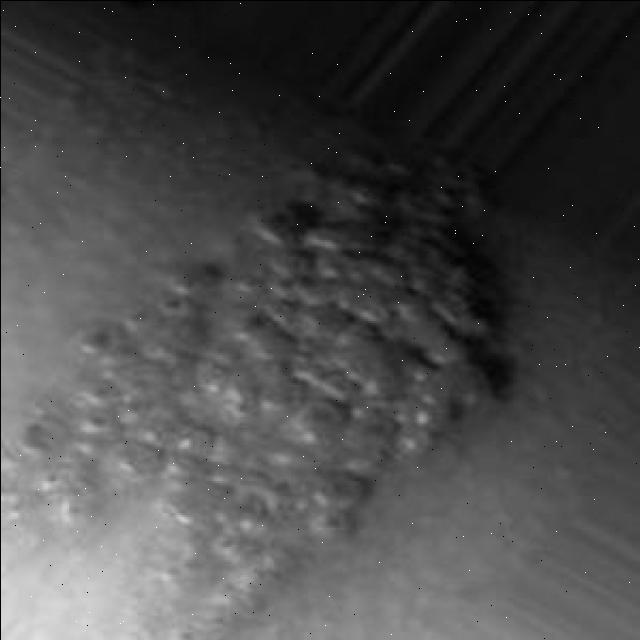Shingles: (4, 165, 492, 632)
